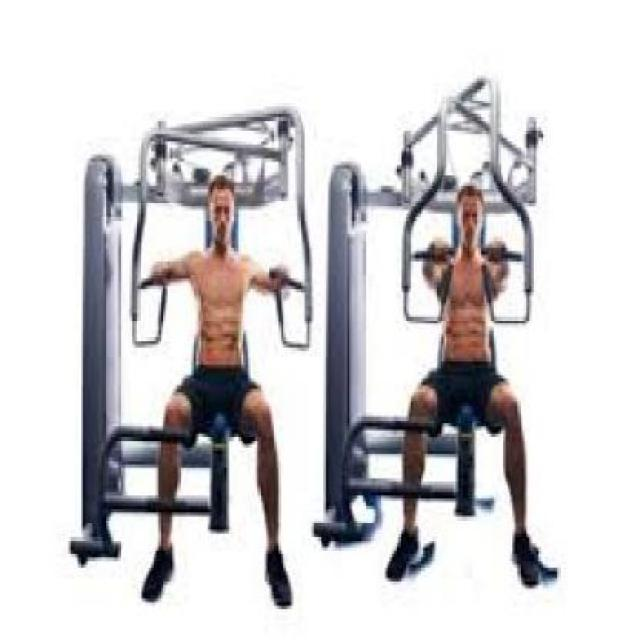Chest Press machine: (306, 69, 563, 622), (61, 92, 314, 625)
